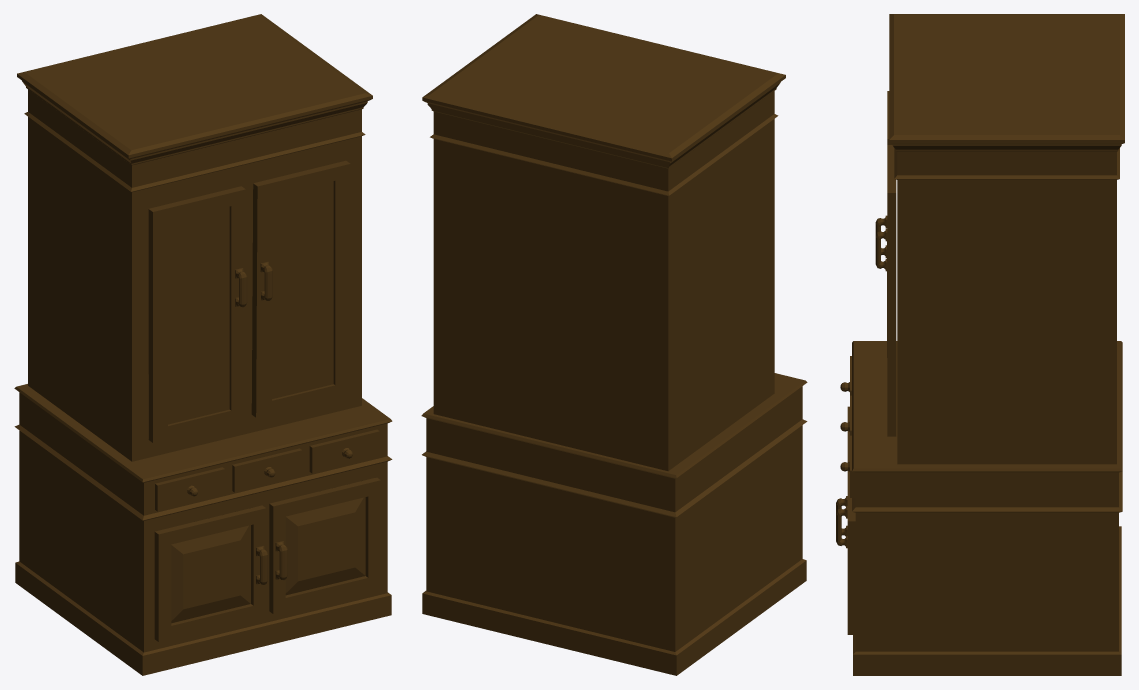
The model's file is SM_Cabinet.fbx.
3 renders of one model, left to right at view 1: azimuth 30°, elevation 25°; view 2: azimuth 150°, elevation 25°; view 3: azimuth 270°, elevation 25°, orthographic. The views are drawn at different scales.
Visible parts, largest first — view 1: SM_UpperCabinet, SM_LowerCabinet, SM_UpperCabinetDoor2, SM_UpperCabinetDoor1, SM_CabinetDoor1, SM_CabinetDoor2, SM_Shelf2, SM_Shelf1, SM_Shelf; view 2: SM_UpperCabinet, SM_LowerCabinet; view 3: SM_UpperCabinet, SM_LowerCabinet, SM_UpperCabinetDoor1, SM_CabinetDoor2.
Part boxes in pixels (x1,y1,x2,y2): SM_UpperCabinet: (17,14,372,461); SM_LowerCabinet: (14,384,392,675); SM_UpperCabinetDoor2: (148,186,247,442); SM_UpperCabinetDoor1: (251,160,350,417); SM_CabinetDoor1: (154,505,268,641); SM_CabinetDoor2: (269,477,380,613); SM_Shelf2: (309,429,379,473); SM_Shelf1: (232,448,302,492); SM_Shelf: (155,467,224,511); SM_UpperCabinet: (422,14,785,471); SM_LowerCabinet: (421,373,807,675); SM_UpperCabinet: (889,14,1124,464); SM_LowerCabinet: (852,341,1122,675); SM_UpperCabinetDoor1: (875,145,896,436); SM_CabinetDoor2: (836,471,855,634).
Bounding box in the file's own units: 146 × 285 × 139.
